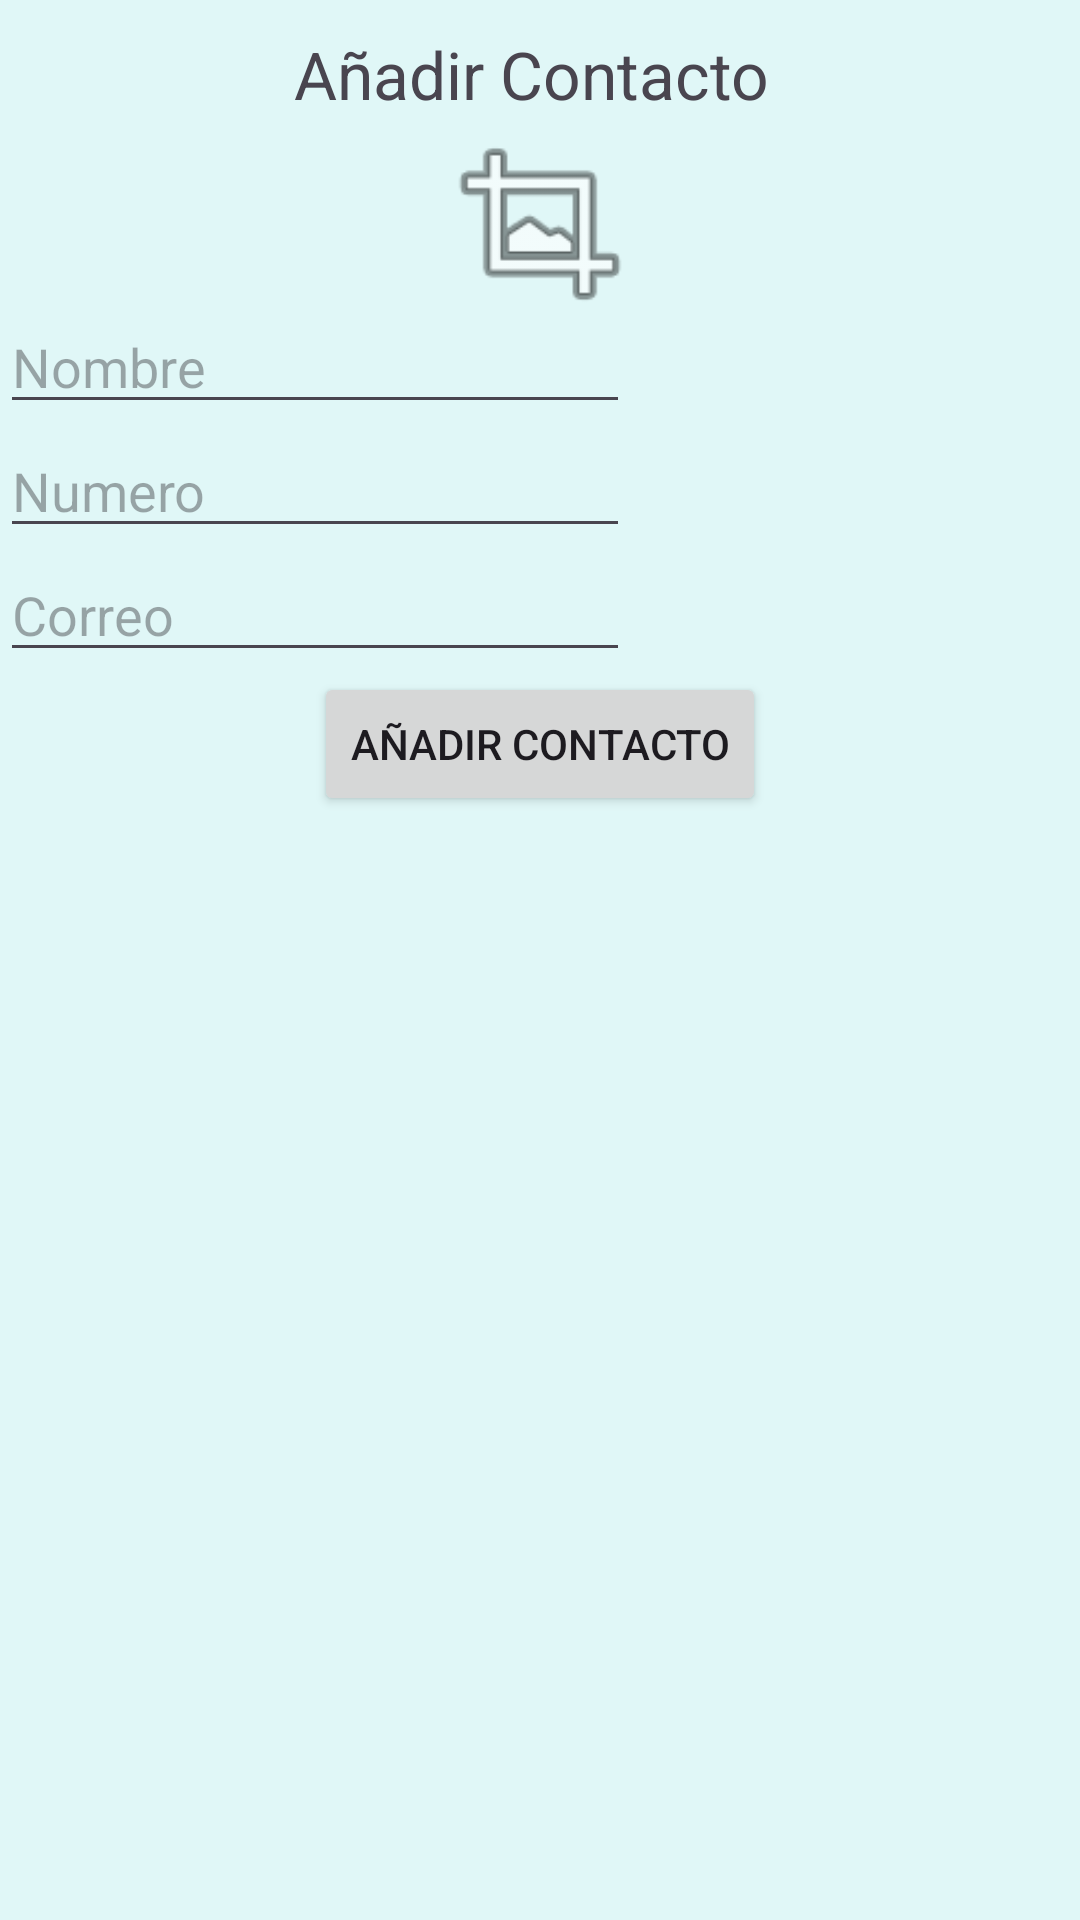

Locate icon controls on the screen. Image size 1080x1920, boxes as (x1, y1, x2, y2).
crop: (460, 148, 620, 300)
